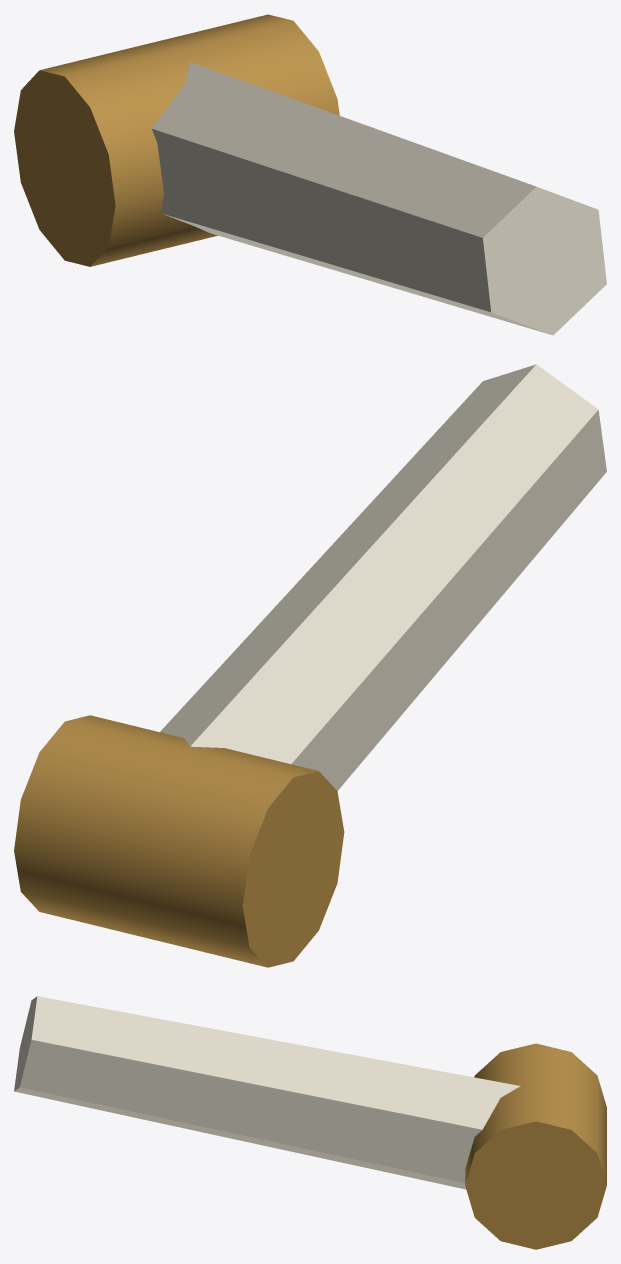
The model's file is rm2_tool_fore.obj.
The picture shows the model from 3 angles, top to bottom: view 1: azimuth 30°, elevation 25°; view 2: azimuth 150°, elevation 25°; view 3: azimuth 270°, elevation 25°; orthographic projection. The views are drawn at different scales.
Parts seen in each view (by area): view 1: rm2_tool_fore; view 2: rm2_tool_fore; view 3: rm2_tool_fore.
Part boxes in pixels (bbox=[...]): rm2_tool_fore: bbox=[14, 14, 606, 335]; rm2_tool_fore: bbox=[14, 364, 606, 967]; rm2_tool_fore: bbox=[14, 996, 606, 1249].
Size of the model in its own units: 0.065 by 0.0835 by 0.2091.
